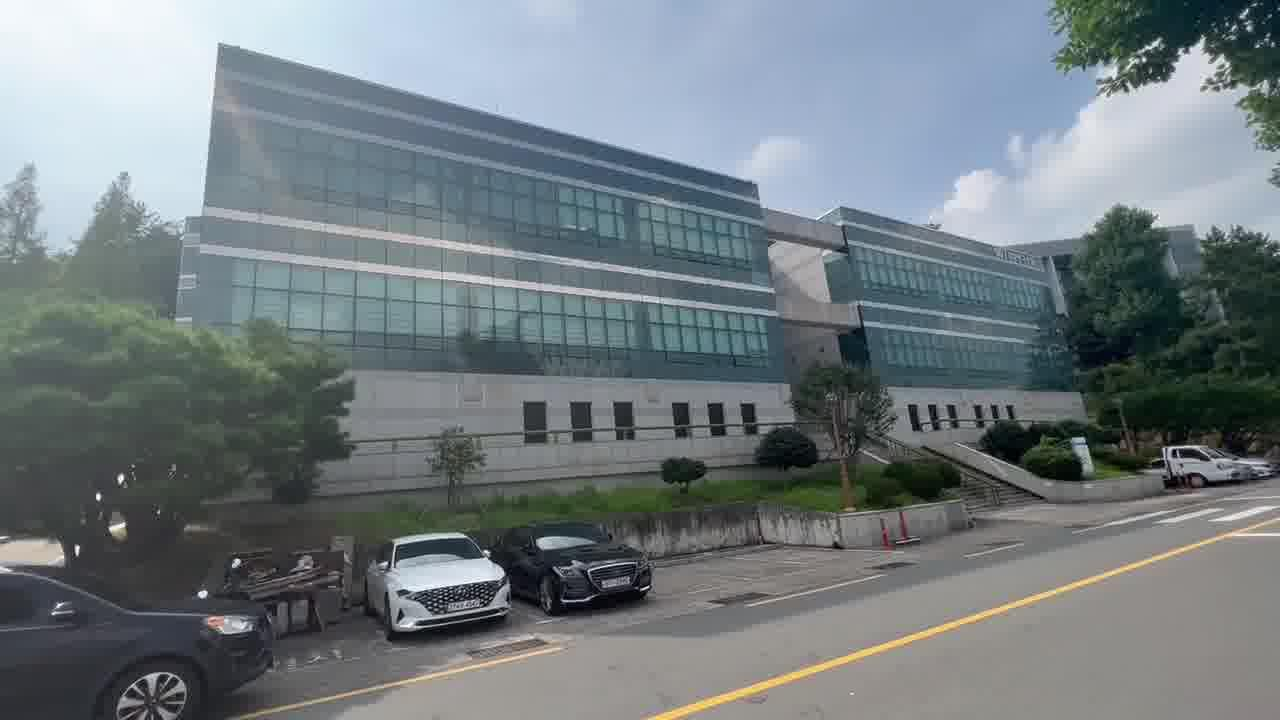building: (192, 52, 1057, 441)
